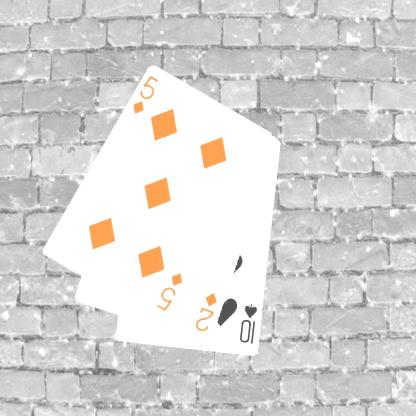10S: (236, 301, 260, 346)
2D: (192, 289, 219, 334)
5D: (153, 270, 184, 313), (130, 73, 160, 116)
